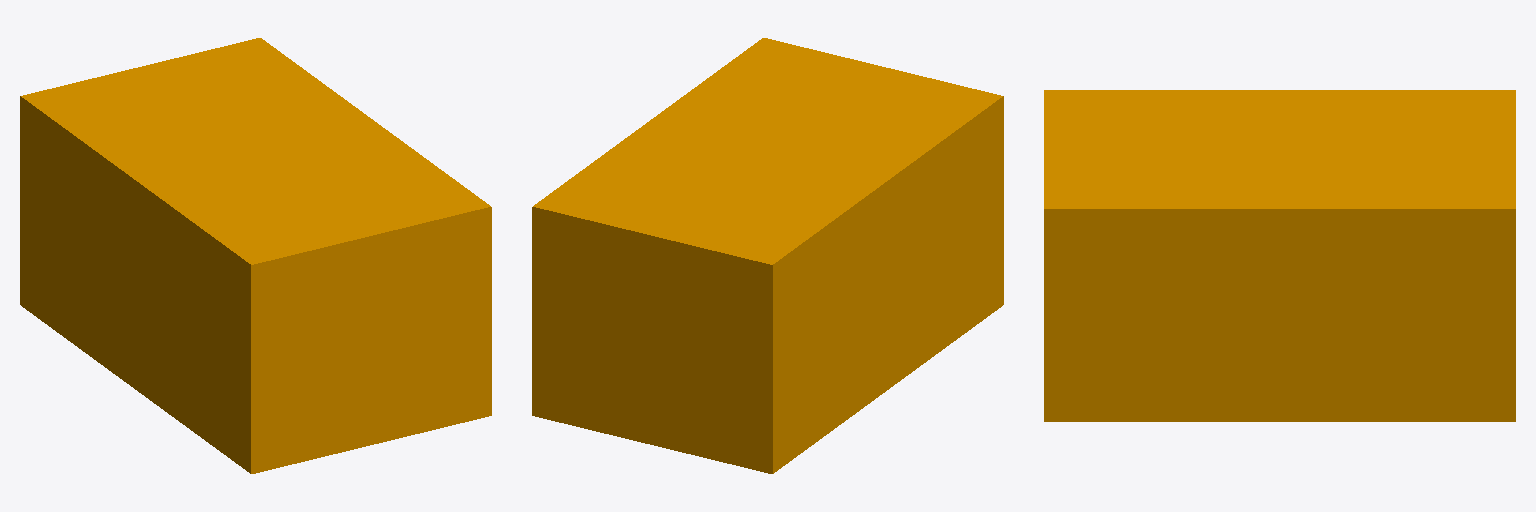
URDF robot description (rect.off):
<?xml version="1.0"?>
<robot name="rect.off">
	<link name="rect.off">
		<inertial>
			<!--origin xyz="0 0 0" rpy="0 0 0" /-->
			<mass value="0.5" />
			<!--inertia ixx="0.000360" ixy="0" ixz="0" iyy="0.0000615" iyz="0" izz="0.00036" /-->
		</inertial>
    		<visual>
	      		<!--origin rpy="0 0 0" xyz="0 0 0"/-->
      			<geometry>
        			<mesh filename="rect.off.obj"/>
      			</geometry>
         	</visual>
    		<collision>
      			<!--origin rpy="0 0 0" xyz="0 0 0"/-->
      			<geometry>
        			<mesh filename="rect.off.obj"/>
      			</geometry>
    		</collision>
	</link>
</robot>

--- Facts derived from the render (not from the file) ---
Views: 3 orthographic renders of the robot side by side, from view 1: azimuth 30°, elevation 25°; view 2: azimuth 150°, elevation 25°; view 3: azimuth 270°, elevation 25°.
Robot: rect.off — 1 links, 0 joints (none); root link rect.off; default pose: all joints at 0.
Links seen in each view (by area): view 1: rect.off; view 2: rect.off; view 3: rect.off.
Link boxes in pixels (x1=…): rect.off: x1=20, y1=38, x2=491, y2=473; rect.off: x1=532, y1=38, x2=1003, y2=473; rect.off: x1=1044, y1=90, x2=1515, y2=421.
Bounding box of the posed robot: 12 × 20 × 10 m (x, y, z).
1 mesh visuals loaded from 1 distinct referenced files (1 OBJ).